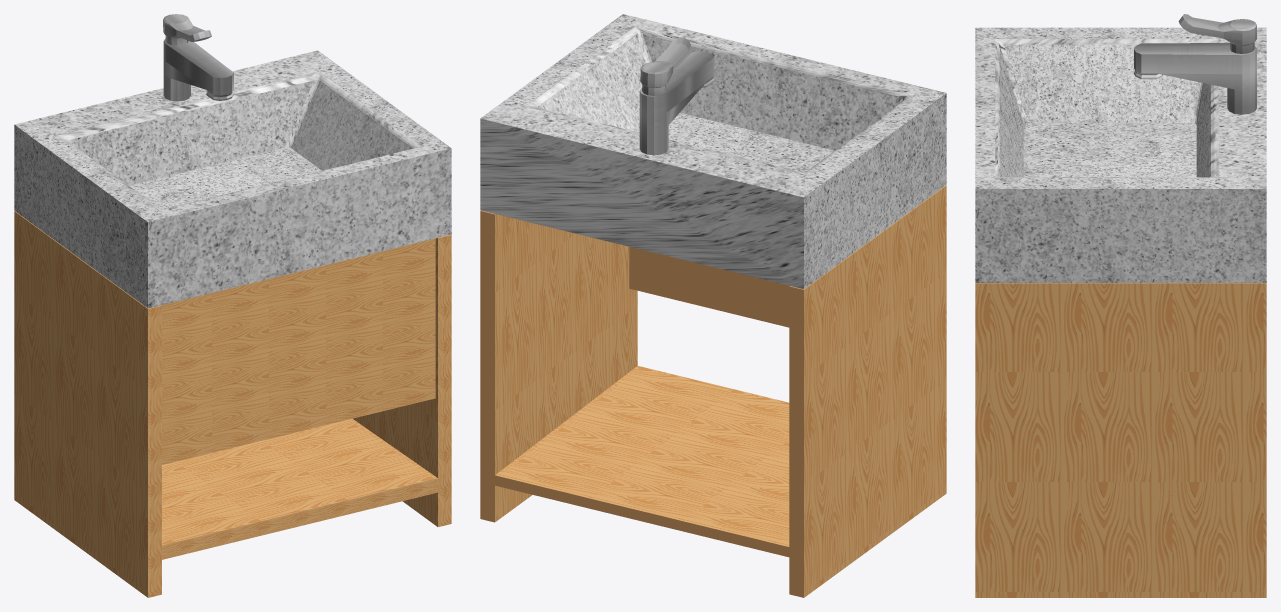
The model's file is Lavamanos.obj.
3 renders of one model, left to right at view 1: azimuth 30°, elevation 25°; view 2: azimuth 150°, elevation 25°; view 3: azimuth 270°, elevation 25°, orthographic. The views are drawn at different scales.
Parts seen in each view (by area): view 1: Cube.003_Cube.005, Cube_Cube.001, Cylinder; view 2: Cube.003_Cube.005, Cube_Cube.001, Cylinder; view 3: Cube.003_Cube.005, Cube_Cube.001, Cylinder.
Part boxes in pixels (x1,y1,x2,y2): Cube.003_Cube.005: (14, 211, 451, 597); Cube_Cube.001: (14, 50, 451, 308); Cylinder: (163, 14, 233, 101); Cube.003_Cube.005: (480, 185, 946, 597); Cube_Cube.001: (480, 14, 946, 289); Cylinder: (639, 37, 714, 155); Cube.003_Cube.005: (975, 283, 1266, 597); Cube_Cube.001: (975, 27, 1266, 282); Cylinder: (1134, 14, 1256, 114).
Bounding box in the file's own units: 1.38 × 1.99 × 1.05.
